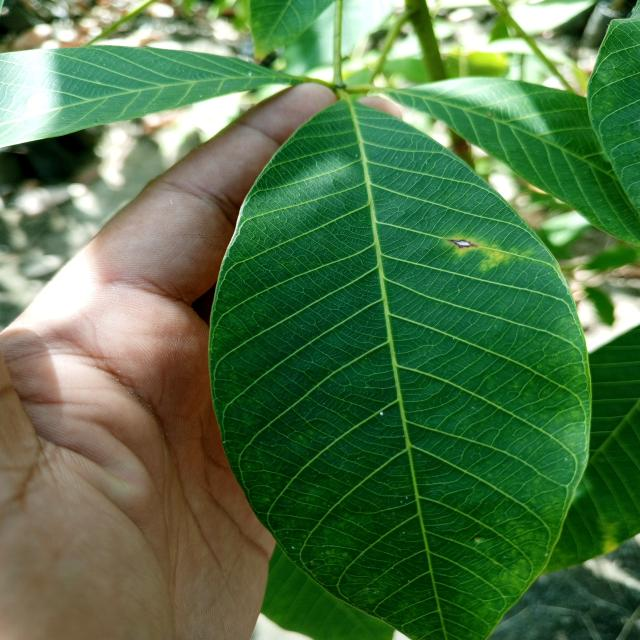Corynespora: (449, 240, 476, 248)
